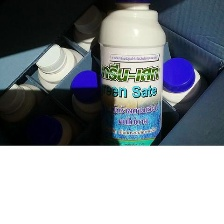insecticide: (97, 0, 165, 159), (67, 1, 136, 89), (153, 53, 220, 131), (62, 64, 121, 144), (31, 40, 97, 110), (0, 77, 55, 137), (26, 110, 86, 163)
